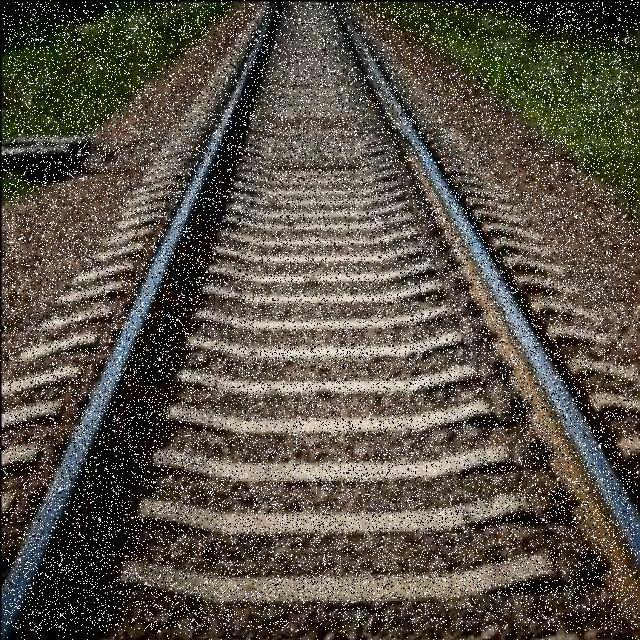rail: (3, 2, 638, 631)
